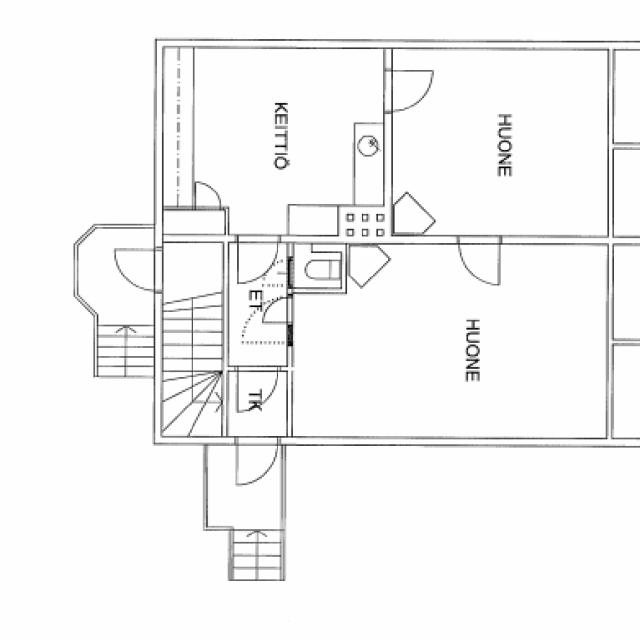door: (83, 236, 161, 310), (234, 234, 282, 288), (457, 234, 504, 289), (114, 245, 162, 296), (234, 436, 281, 488), (238, 368, 283, 413), (389, 69, 434, 112), (190, 177, 227, 213), (257, 295, 296, 327)
window: (76, 222, 100, 246)
zone: (327, 239, 616, 442), (392, 50, 612, 236), (190, 47, 373, 223), (75, 226, 159, 322), (284, 205, 389, 240), (612, 48, 640, 146)
